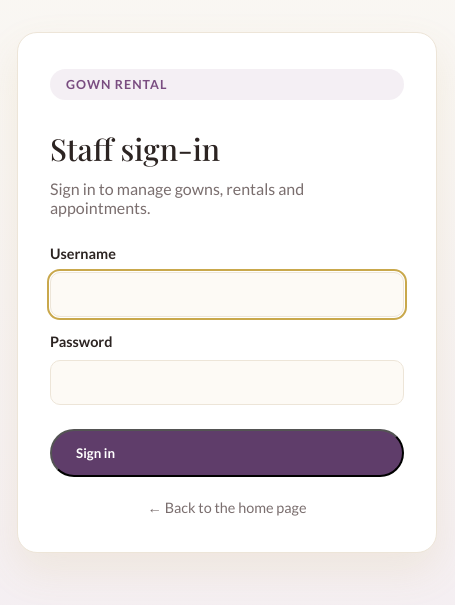
it: too many attempts and an unreachable server each get their own message
Type "secretary" into the field labelled "Username". click: (227,294)
box: [50, 272, 404, 316]
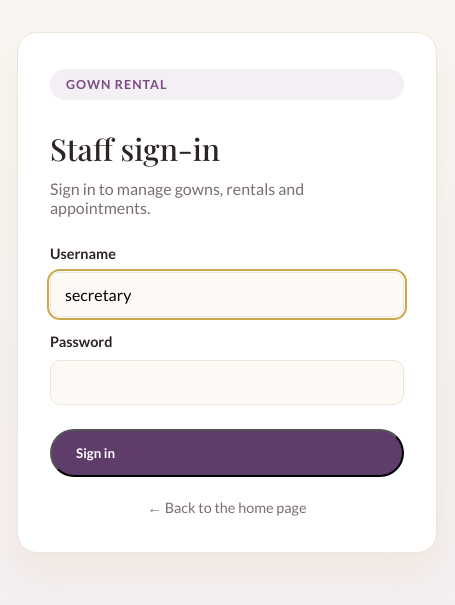
Type "x" into the password field labelled "Password". click: (227,382)
box: [50, 360, 404, 404]
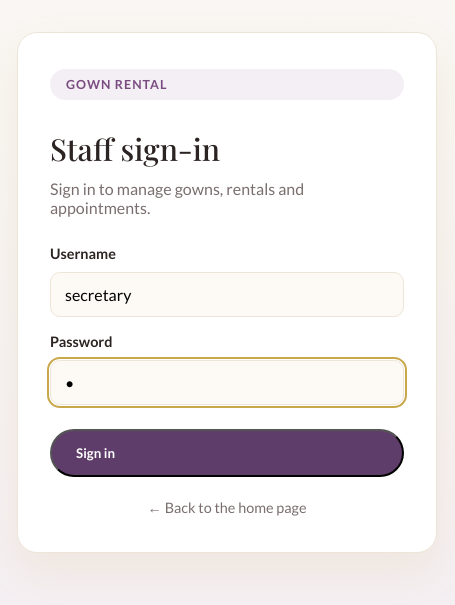
Click the button "Sign in". click: (96,452)
box: [50, 428, 404, 476]
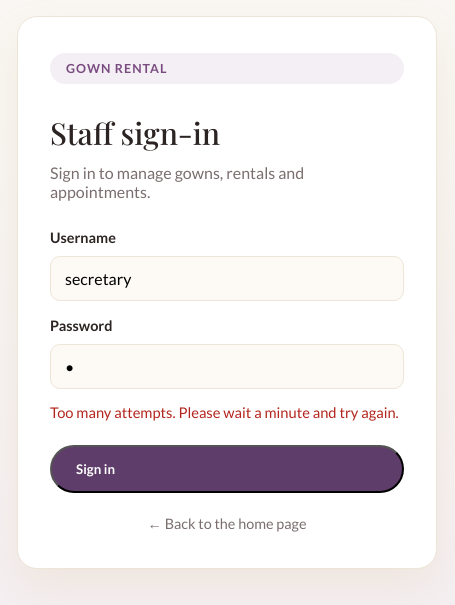
Expected: the message shows "Too many attempts", [50, 402, 399, 420]
Click the button "Sign in". click: (96,468)
box: [50, 444, 404, 492]
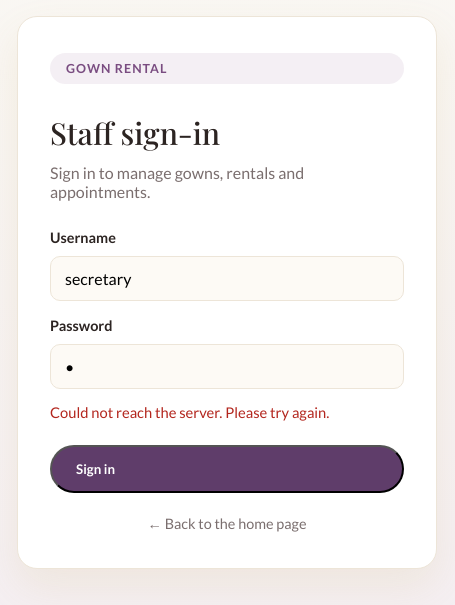
Expected: the message shows "Could not reach the server", [50, 402, 329, 420]
